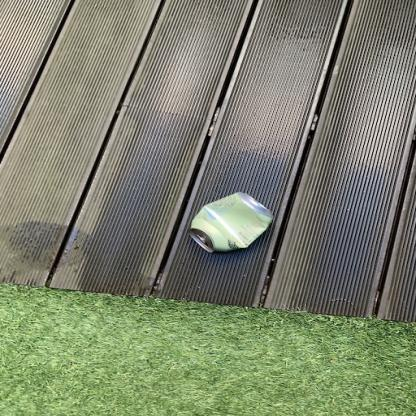Aerosols: (186, 183, 280, 256)
